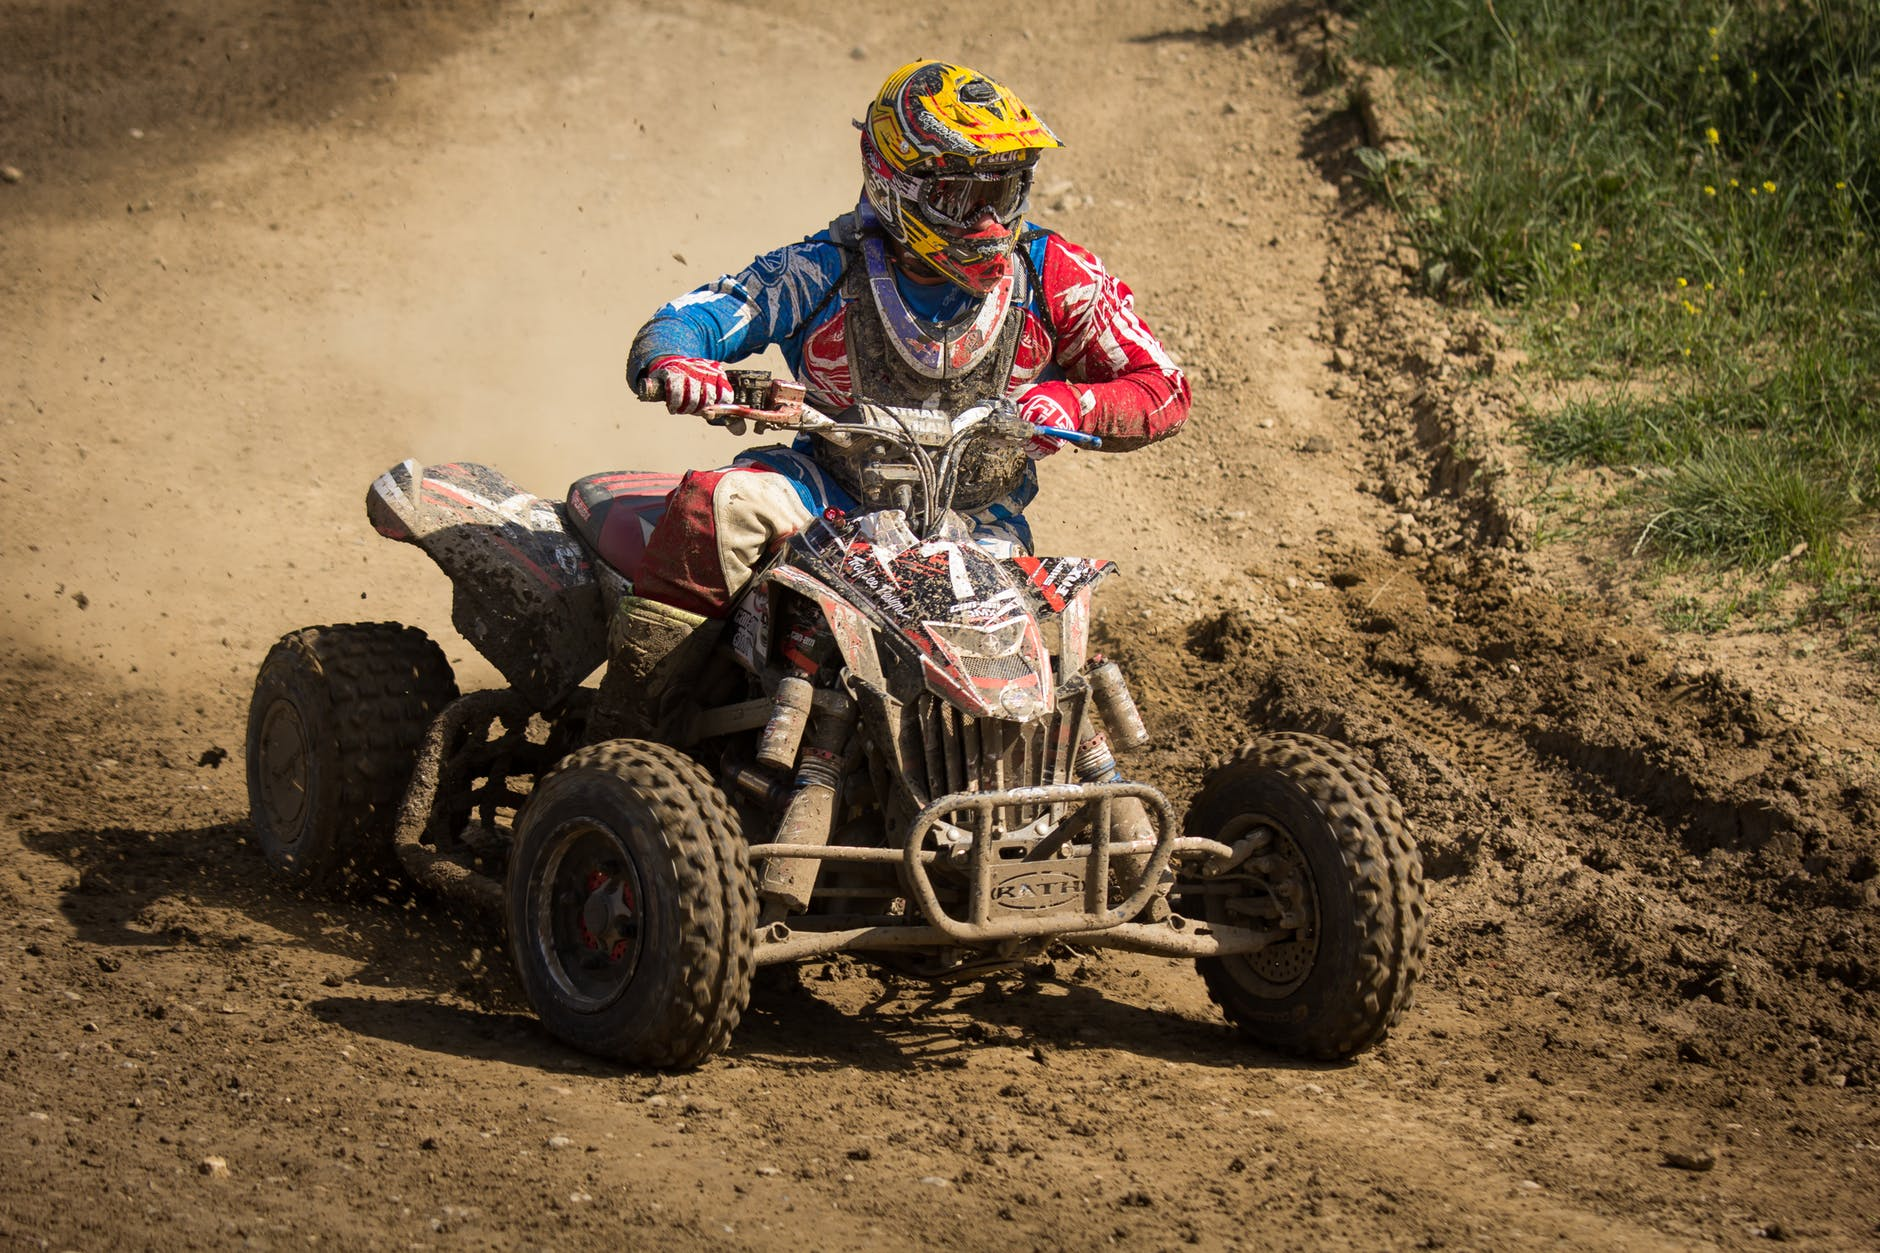helmet: (855, 73, 1048, 287)
